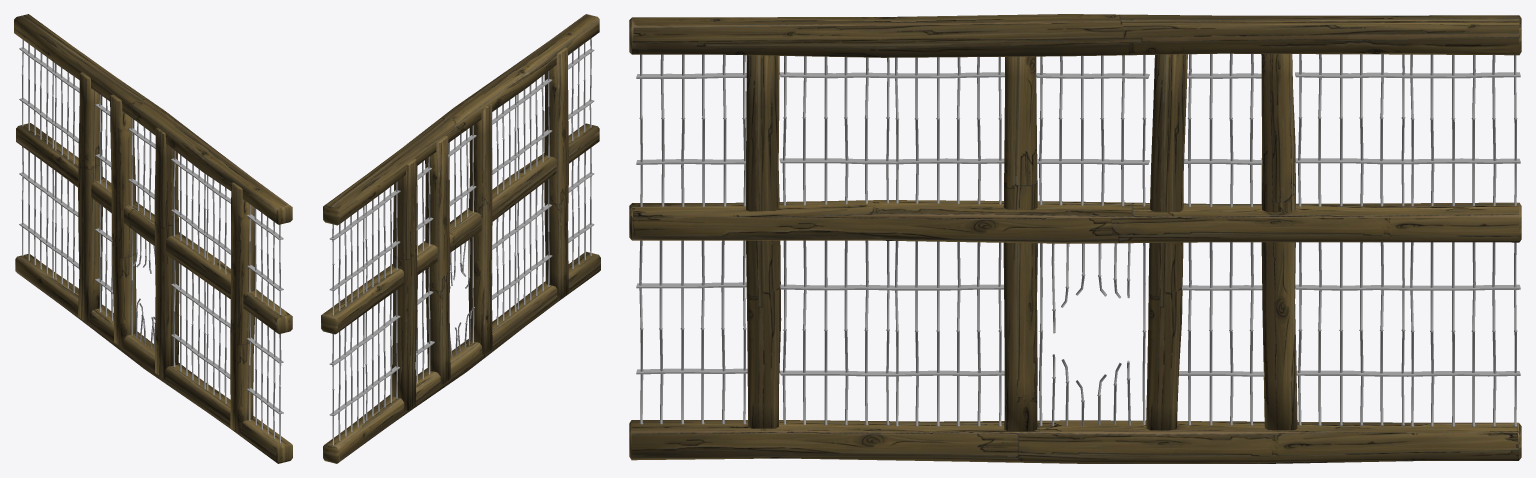
The model's file is wallJail.fbx.
3 views of the same model, side by side, from view 1: azimuth 30°, elevation 25°; view 2: azimuth 150°, elevation 25°; view 3: azimuth 270°, elevation 25° (orthographic). The views are drawn at different scales.
Parts seen in each view (by area): view 1: beamMedium9, doorMetal22; view 2: beamMedium9, doorMetal22; view 3: beamMedium9, doorMetal22.
Part boxes in pixels (x1,y1,x2,y2): beamMedium9: [14, 14, 292, 463]; doorMetal22: [19, 39, 283, 443]; beamMedium9: [321, 14, 600, 463]; doorMetal22: [329, 38, 594, 445]; beamMedium9: [629, 14, 1521, 463]; doorMetal22: [636, 53, 1520, 426].
Size of the model in its own units: 0.401 by 4.44 by 8.17.
